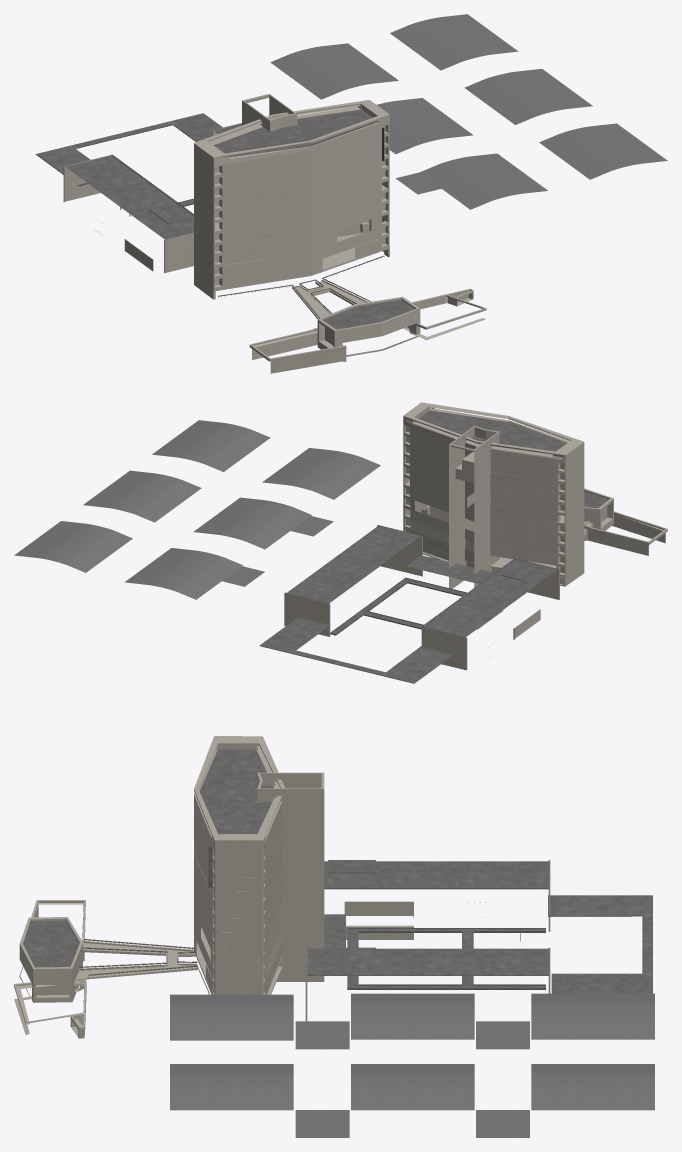
The model's file is roof and walls.glb.
The picture shows the model from 3 angles, top to bottom: view 1: azimuth 30°, elevation 25°; view 2: azimuth 150°, elevation 25°; view 3: azimuth 270°, elevation 25°; orthographic projection. The views are drawn at different scales.
Parts seen in each view (by area): view 1: roof and walls raw; view 2: roof and walls raw; view 3: roof and walls raw.
Part boxes in pixels (x1=…): roof and walls raw: x1=36, y1=14, x2=667, y2=373; roof and walls raw: x1=14, y1=402, x2=667, y2=683; roof and walls raw: x1=14, y1=736, x2=667, y2=1137.
Size of the model in its own units: 11.15 by 3.89 by 11.51.
1 material, 1 textured.
